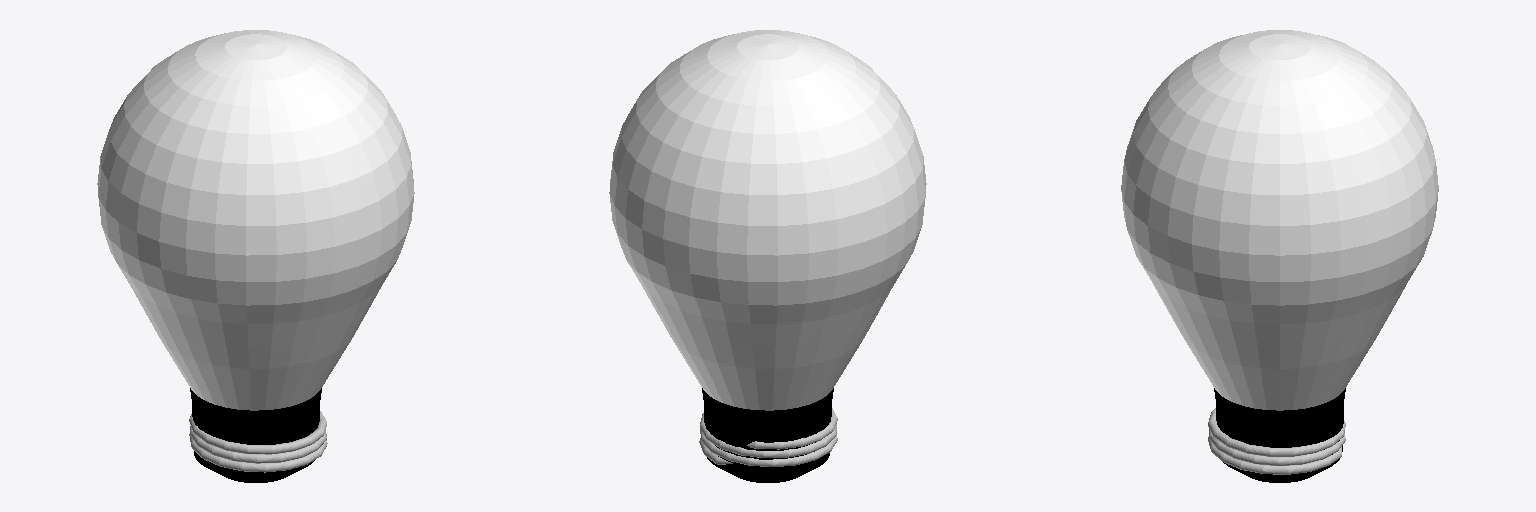
Rendered from lightbulb.obj.
3 views of the same model, side by side, from view 1: azimuth 30°, elevation 25°; view 2: azimuth 150°, elevation 25°; view 3: azimuth 270°, elevation 25° (orthographic).
Parts seen in each view (by area): view 1: Sphere, Circle; view 2: Sphere, Circle; view 3: Sphere, Circle.
Boxes of the visible parts, x1,y1,x2,y2 form: Sphere: [97, 30, 414, 482]; Circle: [189, 411, 327, 472]; Sphere: [609, 30, 926, 482]; Circle: [699, 408, 837, 466]; Sphere: [1121, 30, 1438, 482]; Circle: [1208, 408, 1345, 474].
Bounding box in the file's own units: 2 × 2.94 × 2.